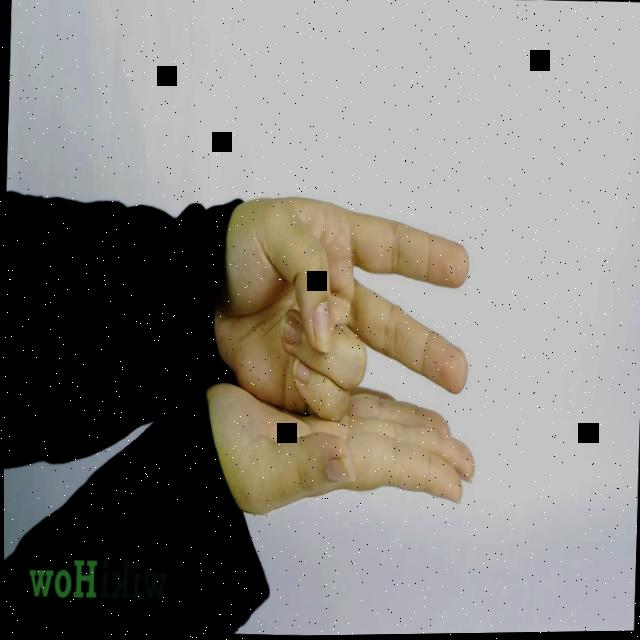Scissors: (211, 191, 475, 428)
